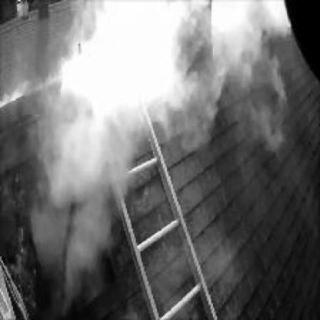Smoke: (39, 119, 125, 201)
